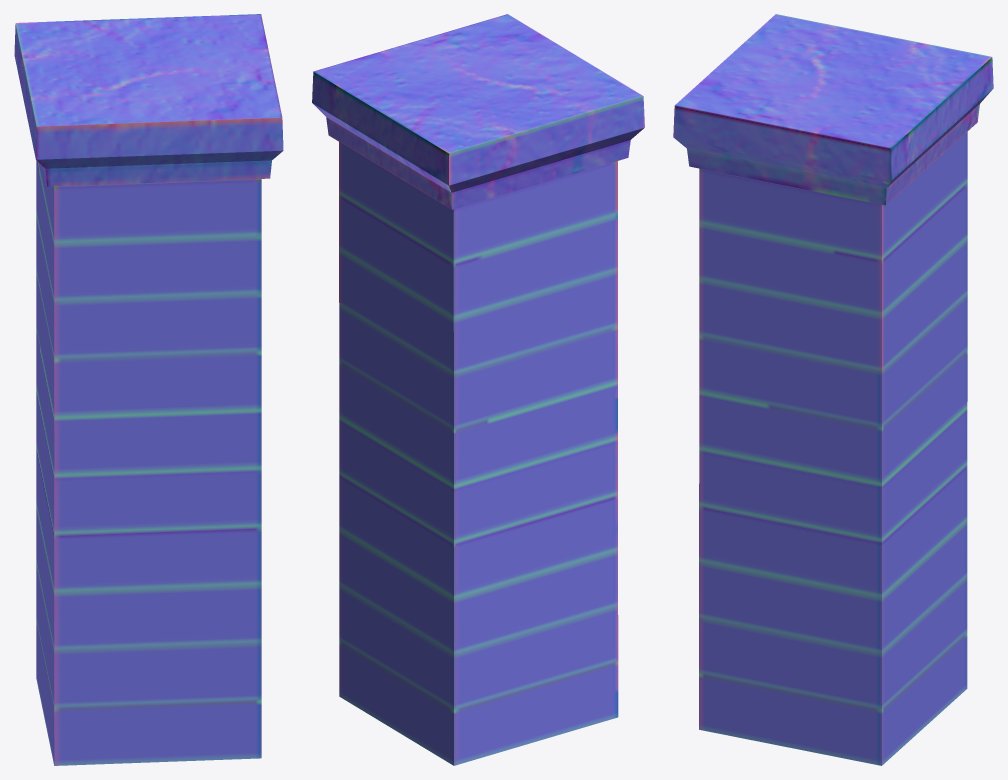
The picture shows the model from 3 angles, left to right: view 1: azimuth 30°, elevation 25°; view 2: azimuth 150°, elevation 25°; view 3: azimuth 270°, elevation 25°; orthographic projection. The views are drawn at different scales.
Parts seen in each view (by area): view 1: pillar_low_029; view 2: pillar_low_029; view 3: pillar_low_029.
Boxes of the visible parts, box(x1,y1,x2,y2) form: pillar_low_029: box(14, 14, 283, 765); pillar_low_029: box(312, 14, 644, 765); pillar_low_029: box(673, 14, 993, 765).
Size of the model in its own units: 68.38 by 148 by 68.38.
